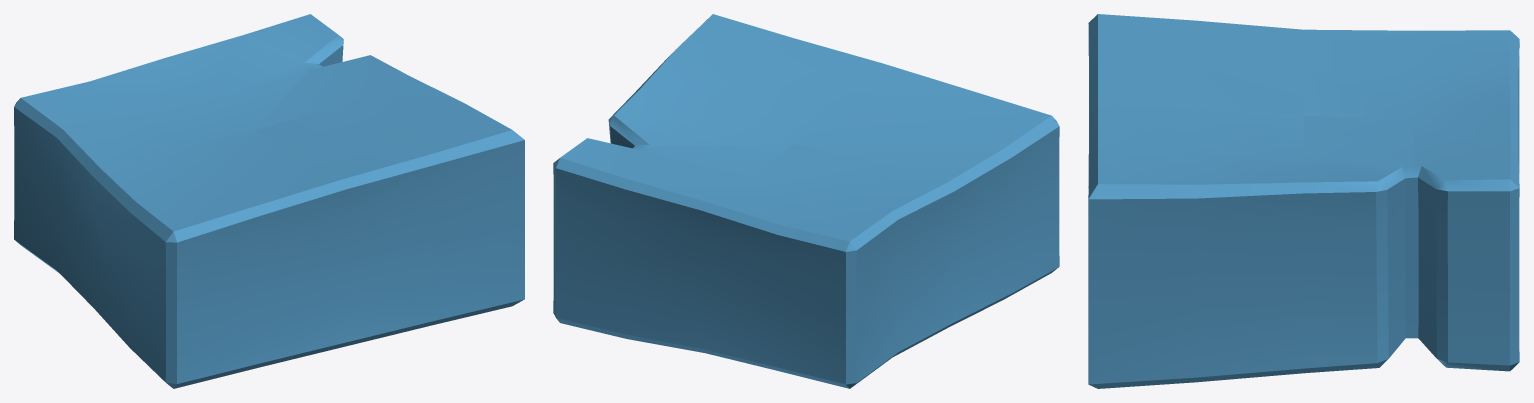
File: Blue4.fbx
3 renders of one model, left to right at view 1: azimuth 30°, elevation 25°; view 2: azimuth 150°, elevation 25°; view 3: azimuth 270°, elevation 25°, orthographic. The views are drawn at different scales.
Visible parts, largest first — view 1: square; view 2: square; view 3: square.
Part boxes in pixels (x1,y1,x2,y2): square: (14, 14, 524, 388); square: (553, 14, 1059, 388); square: (1088, 14, 1519, 388).
Bounding box in the file's own units: 1.96 × 0.9287 × 1.77.
